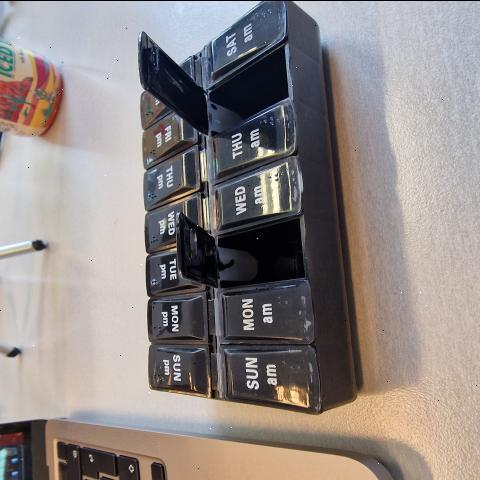Open: (140, 32, 287, 131), (177, 212, 308, 286)
